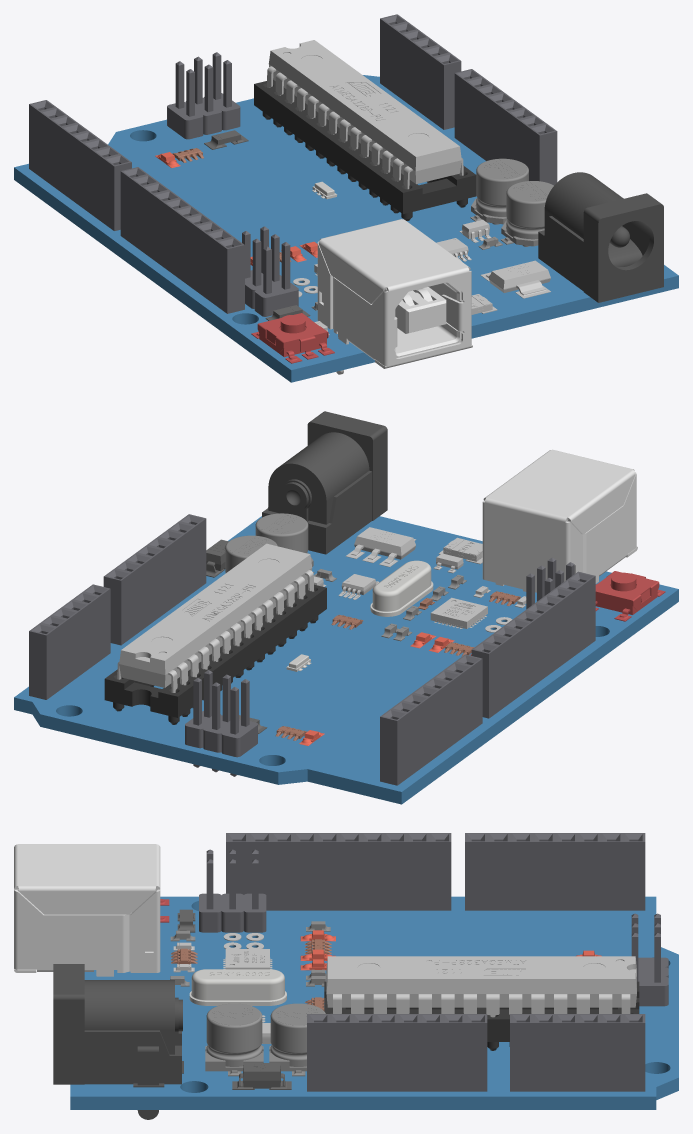
Rendered from arduino-uno.glb.
3 renders of one model, top to bottom at view 1: azimuth 30°, elevation 25°; view 2: azimuth 150°, elevation 25°; view 3: azimuth 270°, elevation 25°, orthographic. The views are drawn at different scales.
Parts seen in each view (by area): view 1: NAUO1, NAUO82, NAUO24, NAUO4, NAUO23, NAUO20, NAUO21, NAUO53, NAUO22, NAUO83, NAUO2, NAUO5 (+9 smaller); view 2: NAUO1, NAUO82, NAUO24, NAUO4, NAUO23, NAUO20, NAUO21, NAUO22, NAUO53, NAUO6, NAUO10, NAUO8 (+10 smaller); view 3: NAUO1, NAUO82, NAUO24, NAUO23, NAUO4, NAUO20, NAUO21, NAUO22, NAUO2, NAUO6, NAUO5, NAUO53 (+7 smaller).
Part boxes in pixels (x1,y1,x2,y2): NAUO1: (14,75,678,382); NAUO82: (317,219,472,374); NAUO24: (267,40,463,189); NAUO4: (538,172,663,302); NAUO23: (120,167,244,313); NAUO20: (29,100,131,230); NAUO21: (454,69,557,185); NAUO53: (254,80,476,214); NAUO22: (380,14,461,129); NAUO83: (385,281,462,357); NAUO2: (500,181,553,246); NAUO5: (470,158,528,224); NAUO1: (14,516,678,804); NAUO82: (482,449,637,592); NAUO24: (117,543,314,692); NAUO4: (262,411,387,554); NAUO23: (471,571,595,718); NAUO20: (380,654,482,785); NAUO21: (103,514,206,645); NAUO22: (29,584,110,699); NAUO53: (104,583,326,717); NAUO6: (370,560,433,616); NAUO10: (221,679,257,776); NAUO8: (345,527,416,567); NAUO1: (70,896,678,1109); NAUO82: (14,844,160,976); NAUO24: (326,956,636,1017); NAUO23: (226,833,451,910); NAUO4: (53,964,183,1119); NAUO20: (465,833,645,910); NAUO21: (307,1014,487,1091); NAUO22: (510,1014,645,1091); NAUO2: (205,1003,263,1076); NAUO6: (189,969,286,1005); NAUO5: (269,1003,325,1076); NAUO53: (324,981,639,1041).
Bounding box in the file's own units: 53.34 × 15.25 × 74.93.
